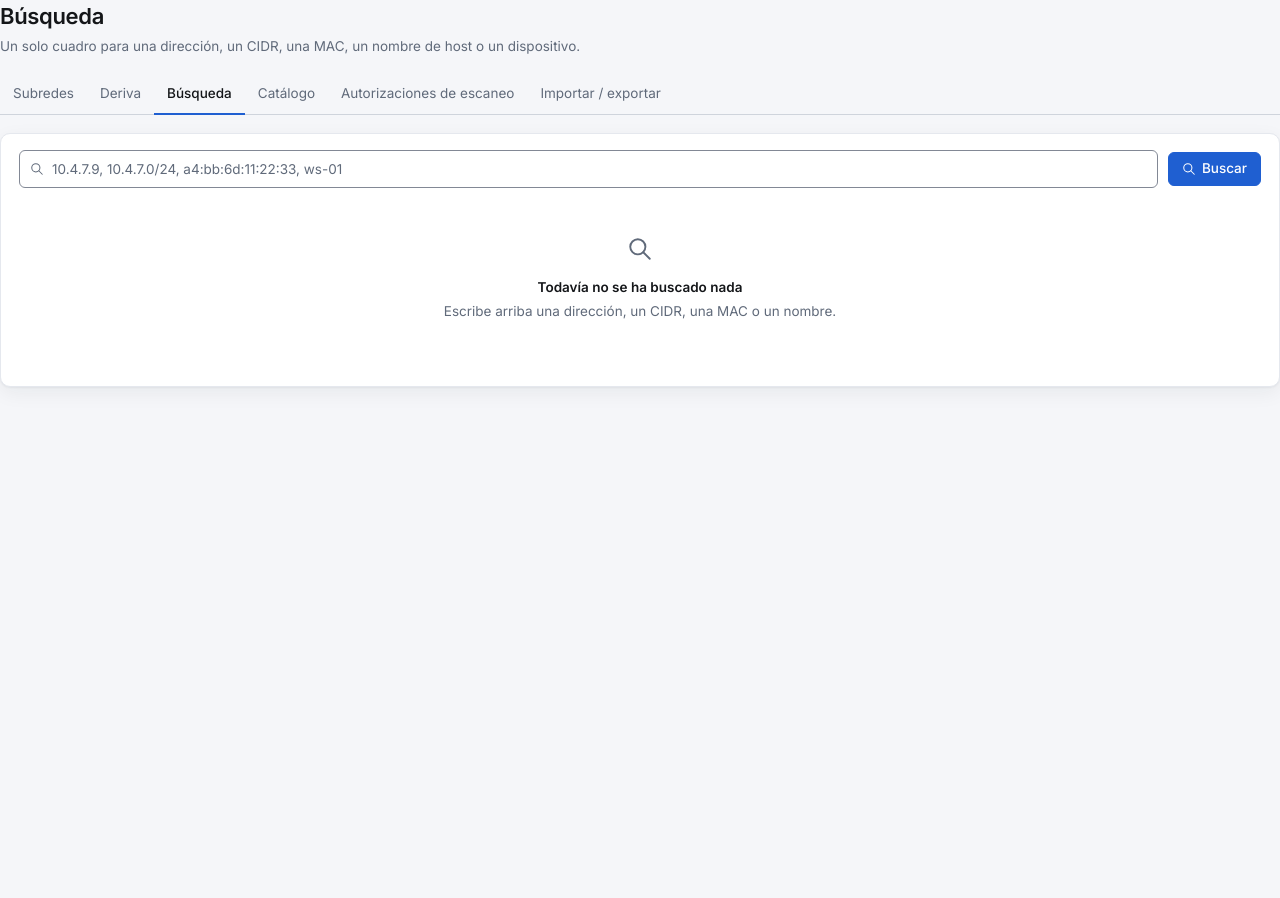
Test case: the search page in Spanish › says how each query was read and lists what it found
Type "10.20.9.14" into the field named "Buscar direcciones, subredes y dispositivos". click: [588, 169]
box: x1=19 y1=150 x2=1158 y2=188
Then press Enter
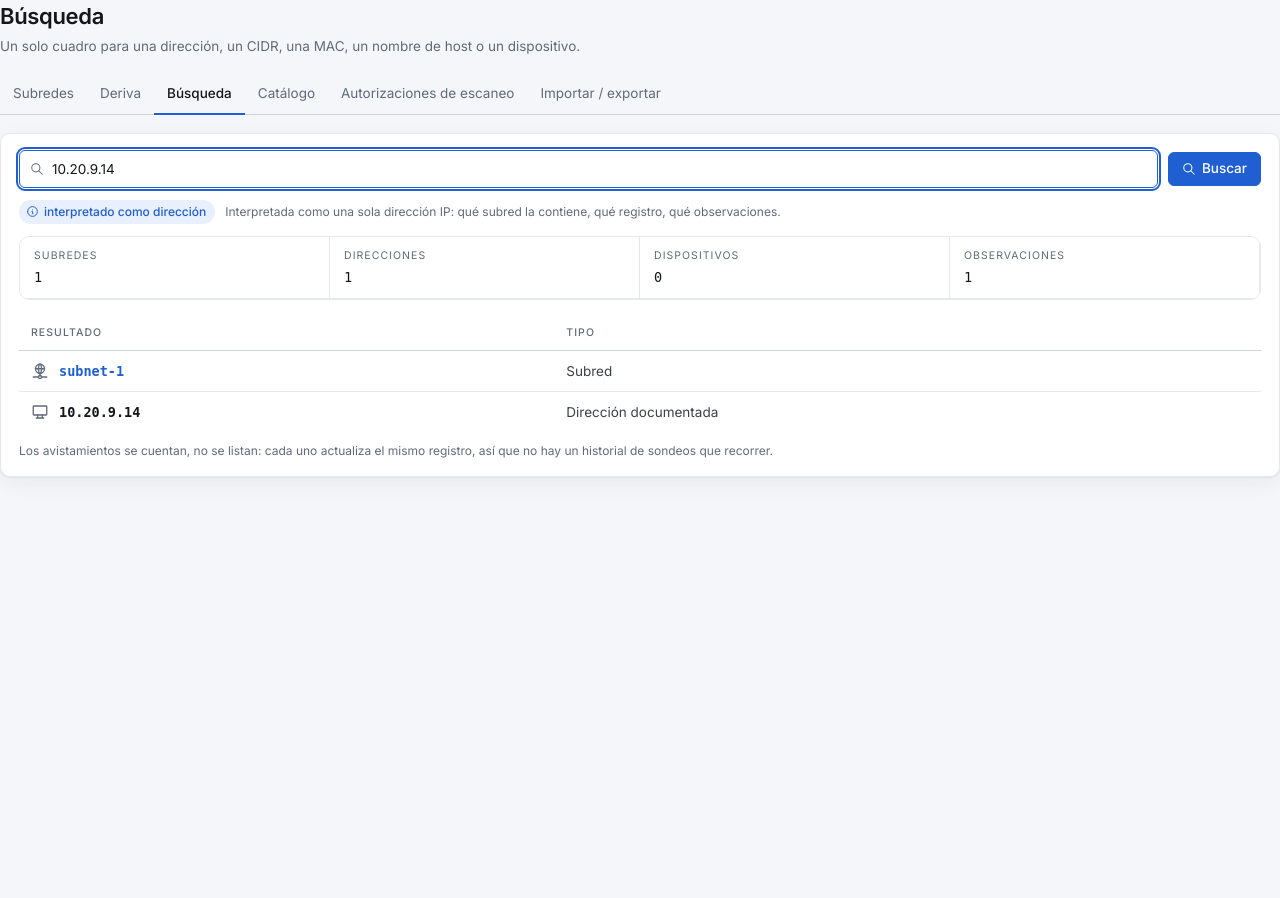
expect the text "interpretado como dirección" is shown: met, box x1=19 y1=200 x2=215 y2=224
expect the text "Interpretada como una sola dirección IP: qué subred la contiene, qué registro, qué observaciones." is shown: met, box x1=225 y1=204 x2=781 y2=219
expect the text "Direcciones" is shown: met, box x1=344 y1=249 x2=426 y2=262
Replace the text in the field named "Buscar direcciones, subredes y dispositivos" with "10.20.0.0/16". click: [588, 169]
box: x1=19 y1=150 x2=1158 y2=188
Then press Enter
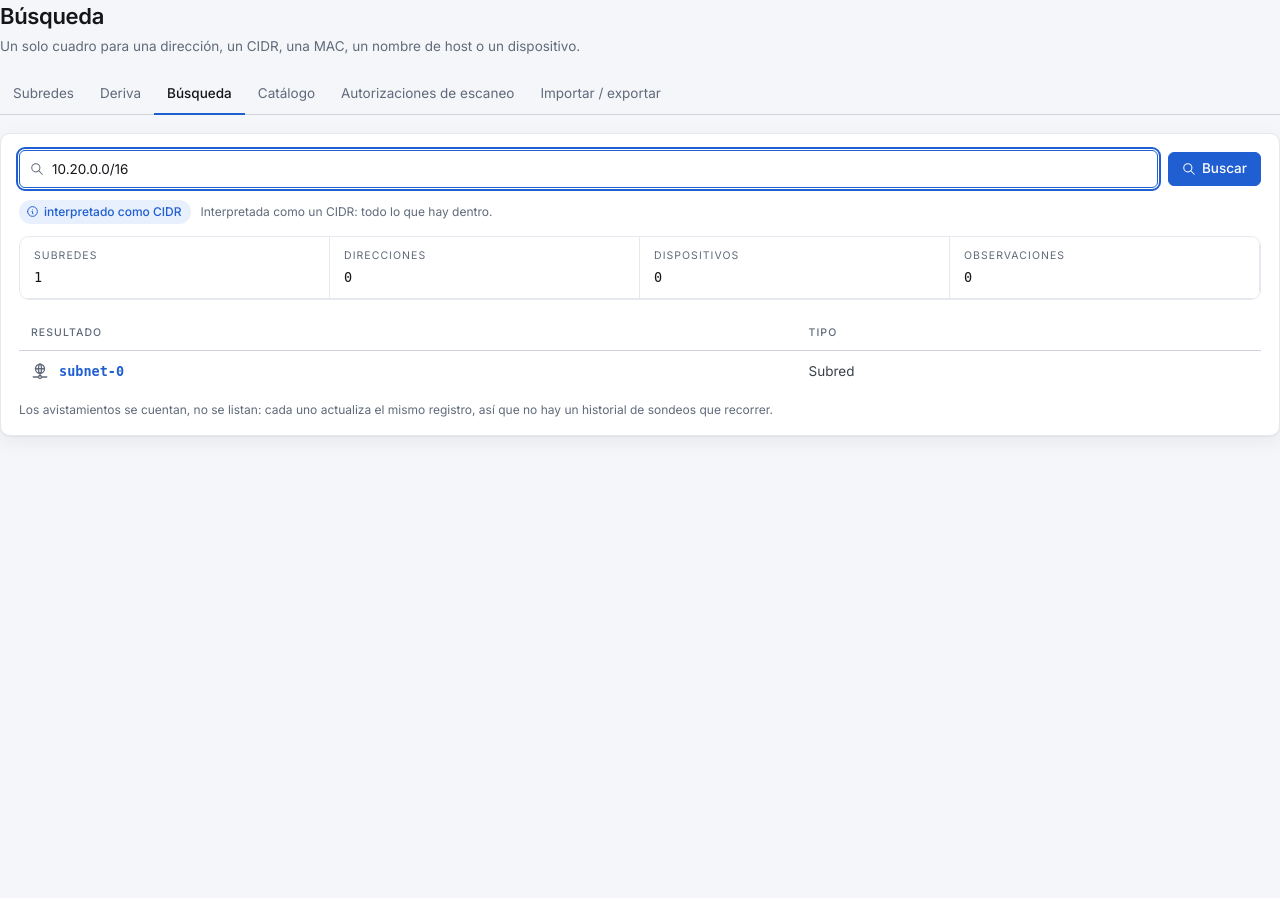
expect the text "interpretado como CIDR" is shown: met, box x1=19 y1=200 x2=190 y2=224
expect the text "Interpretada como un CIDR: todo lo que hay dentro." is shown: met, box x1=200 y1=203 x2=492 y2=221
Replace the text in the field named "Buscar direcciones, subredes y dispositivos" with "a4:83:e7:09:06:5c". click: [588, 169]
box: x1=19 y1=150 x2=1158 y2=188
Then press Enter
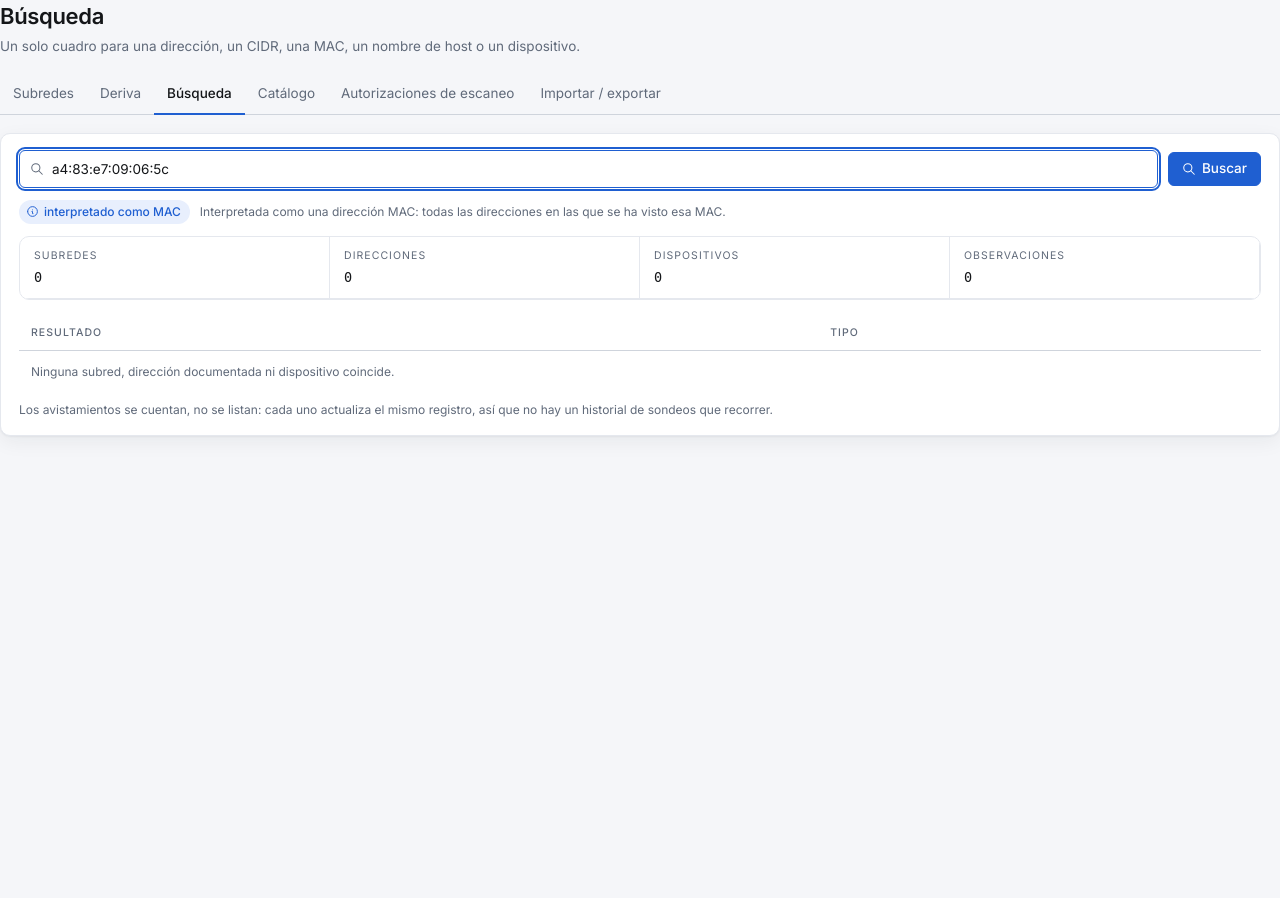
expect the text "interpretado como MAC" is shown: met, box x1=19 y1=200 x2=190 y2=224
expect the text "Interpretada como una dirección MAC: todas las direcciones en las que se ha visto esa MAC." is shown: met, box x1=200 y1=204 x2=726 y2=219
Replace the text in the field named "Buscar direcciones, subredes y dispositivos" with "ws". click: [588, 169]
box: x1=19 y1=150 x2=1158 y2=188
Then press Enter
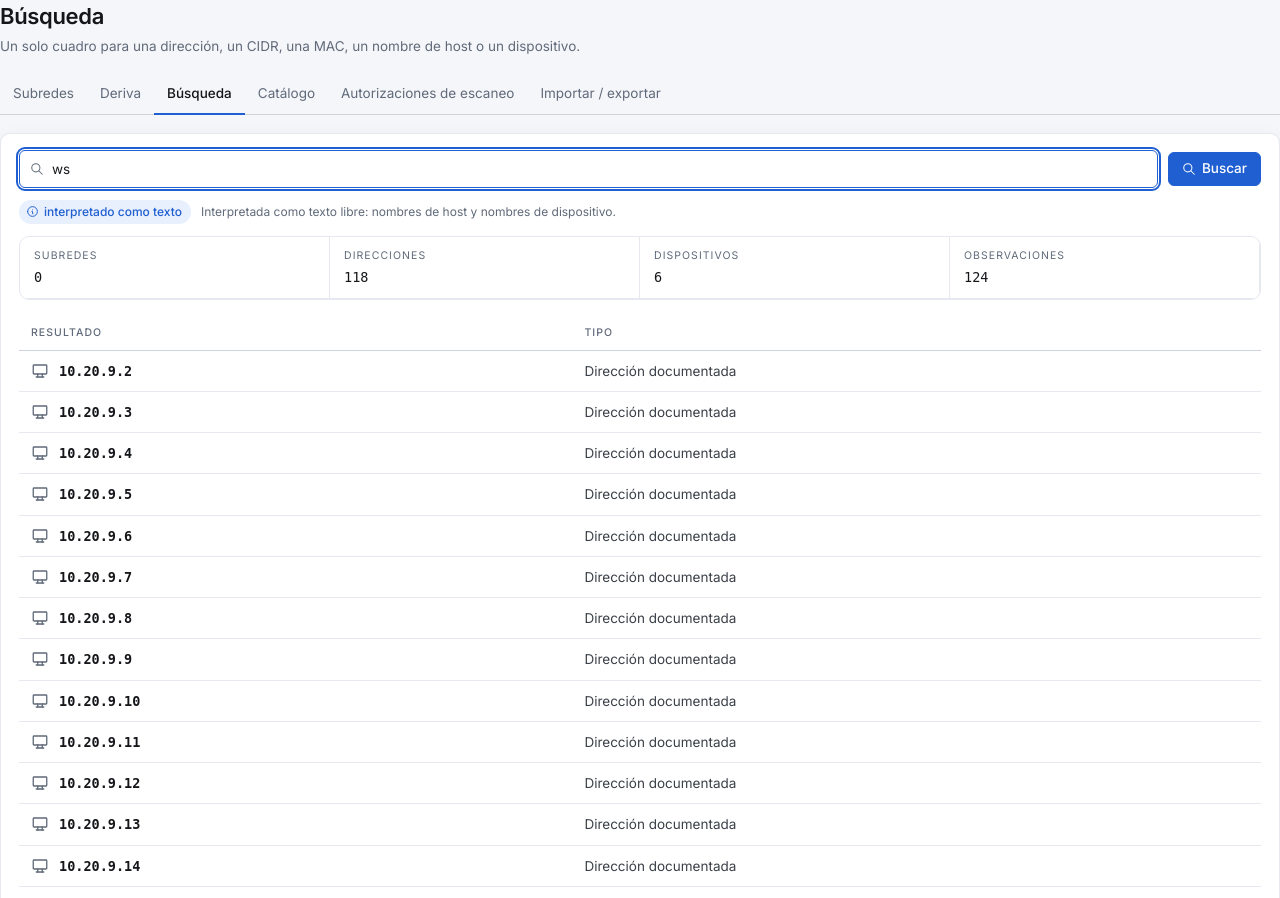
expect the text "interpretado como texto" is shown: met, box x1=19 y1=200 x2=191 y2=224
expect the text "Interpretada como texto libre: nombres de host y nombres de dispositivo." is shown: met, box x1=201 y1=203 x2=616 y2=221
Replace the text in the field named "Buscar direcciones, subredes y dispositivos" with "zzzzzz". click: [588, 169]
box: x1=19 y1=150 x2=1158 y2=188
Then press Enter
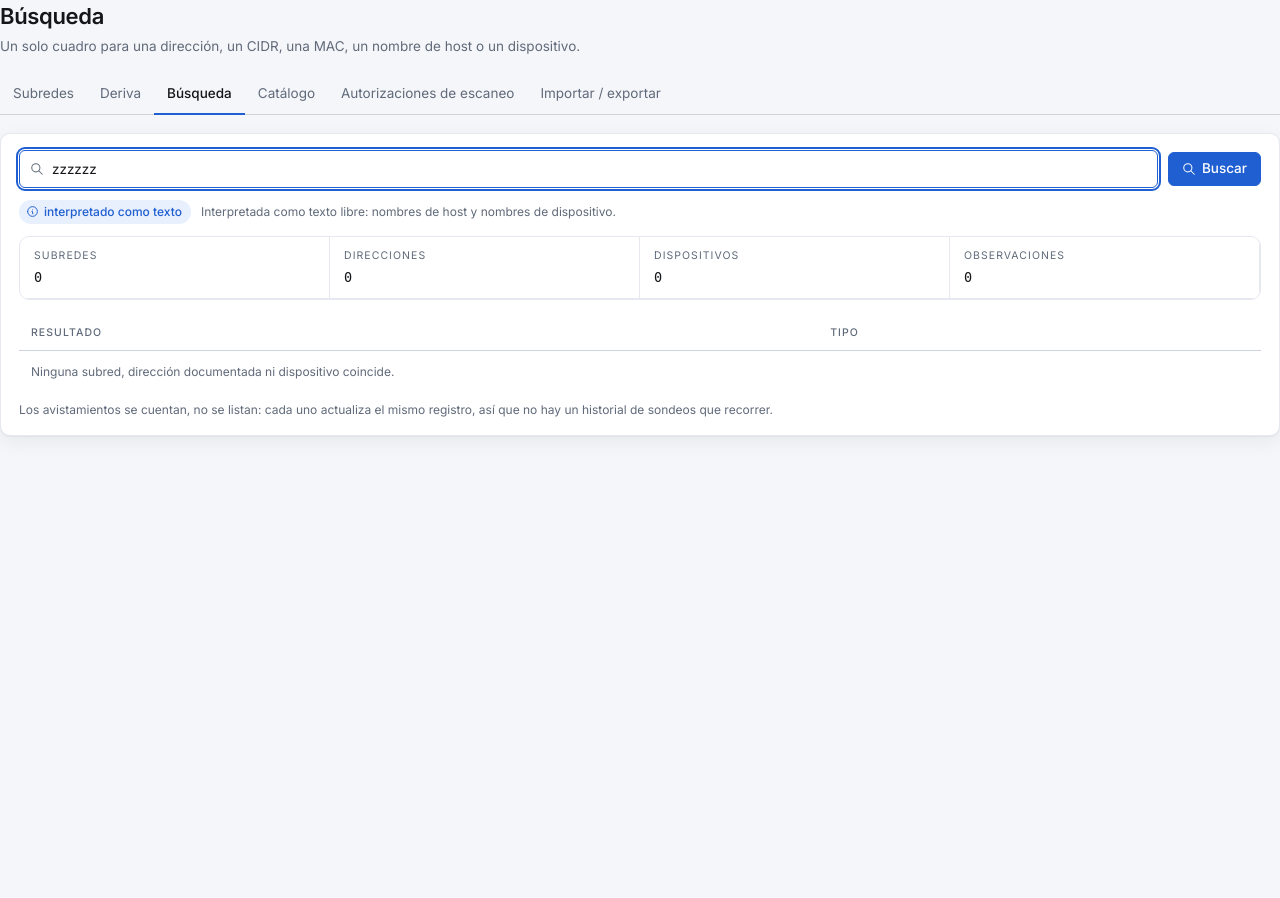
expect the text "Ninguna subred, dirección documentada ni dispositivo coincide." is shown: met, box x1=31 y1=364 x2=394 y2=378
